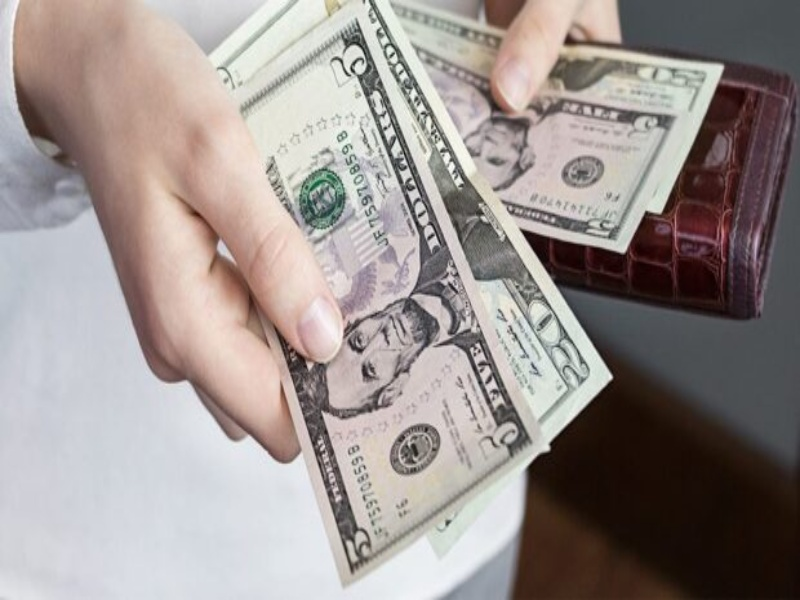cash: (208, 1, 723, 588)
